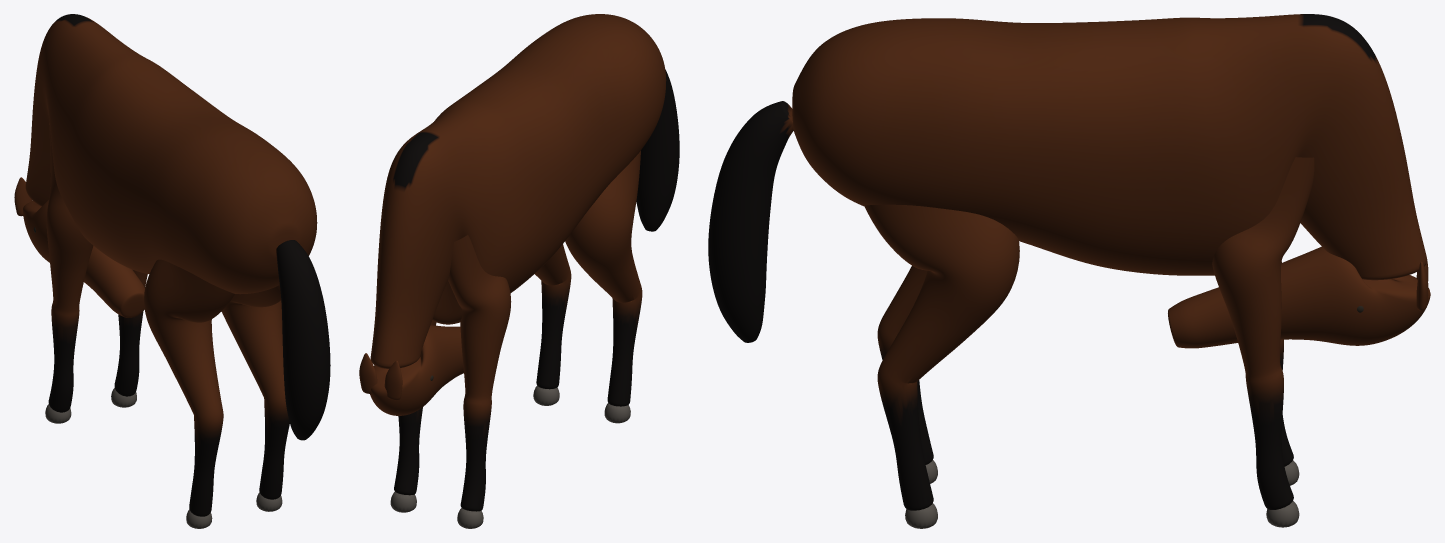
The model's file is horse_bay_grazing.gltf.
The picture shows the model from 3 angles, left to right: view 1: azimuth 30°, elevation 25°; view 2: azimuth 150°, elevation 25°; view 3: azimuth 270°, elevation 25°; orthographic projection. The views are drawn at different scales.
Parts seen in each view (by area): view 1: horse; view 2: horse; view 3: horse.
Part boxes in pixels (x1,y1,x2,y2): horse: [14, 14, 330, 528]; horse: [359, 14, 679, 528]; horse: [708, 14, 1430, 528].
Bounding box in the file's own units: 0.5945 × 1.69 × 2.26.
